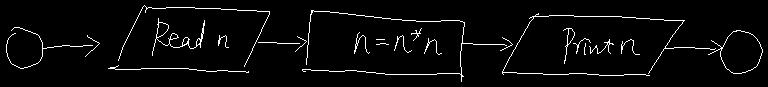arrow: (43, 35, 99, 56), (664, 40, 721, 54), (258, 36, 306, 51), (461, 37, 512, 50)
connection: (720, 30, 762, 73), (6, 27, 42, 68)
data: (502, 13, 684, 75), (108, 5, 269, 72)
process: (302, 10, 464, 81)
text: (152, 18, 228, 55), (563, 28, 639, 63), (354, 28, 441, 54)
